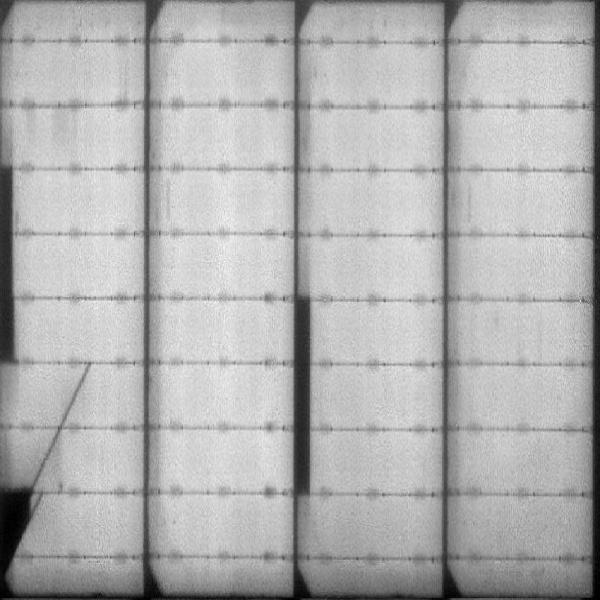black_border: (292, 293, 316, 506), (1, 165, 20, 362)
broken: (2, 368, 91, 573)
